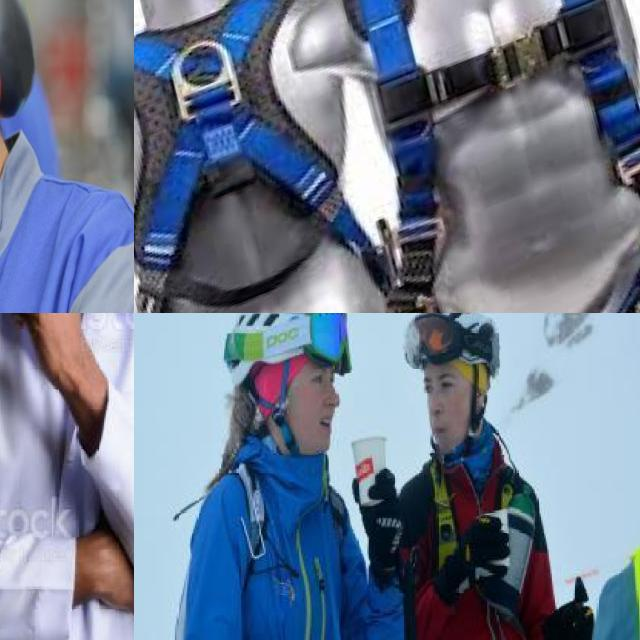Harness: (344, 0, 640, 222), (134, 0, 372, 272)
No_Glasses: (414, 371, 470, 399), (302, 365, 344, 391)
face_nomask: (416, 372, 460, 443), (302, 367, 345, 439)
glasses: (398, 313, 474, 372), (301, 313, 357, 374)
hand_glove: (345, 466, 411, 546), (463, 510, 516, 588)
hand_noglove: (9, 313, 84, 357)
head_helmet: (225, 313, 348, 383), (393, 313, 511, 378)
person: (170, 313, 403, 640), (385, 313, 599, 640), (0, 313, 134, 640), (0, 0, 134, 313)
